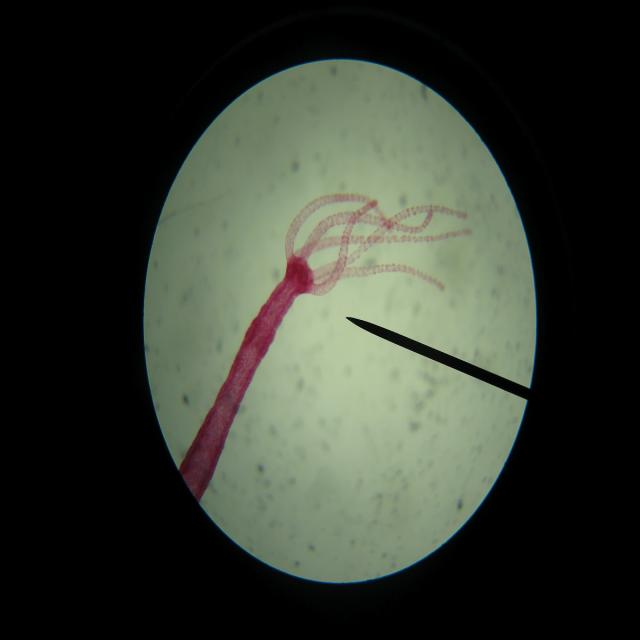Amoeba: (142, 58, 538, 585)
Rod_bacteria: (177, 192, 474, 507)
